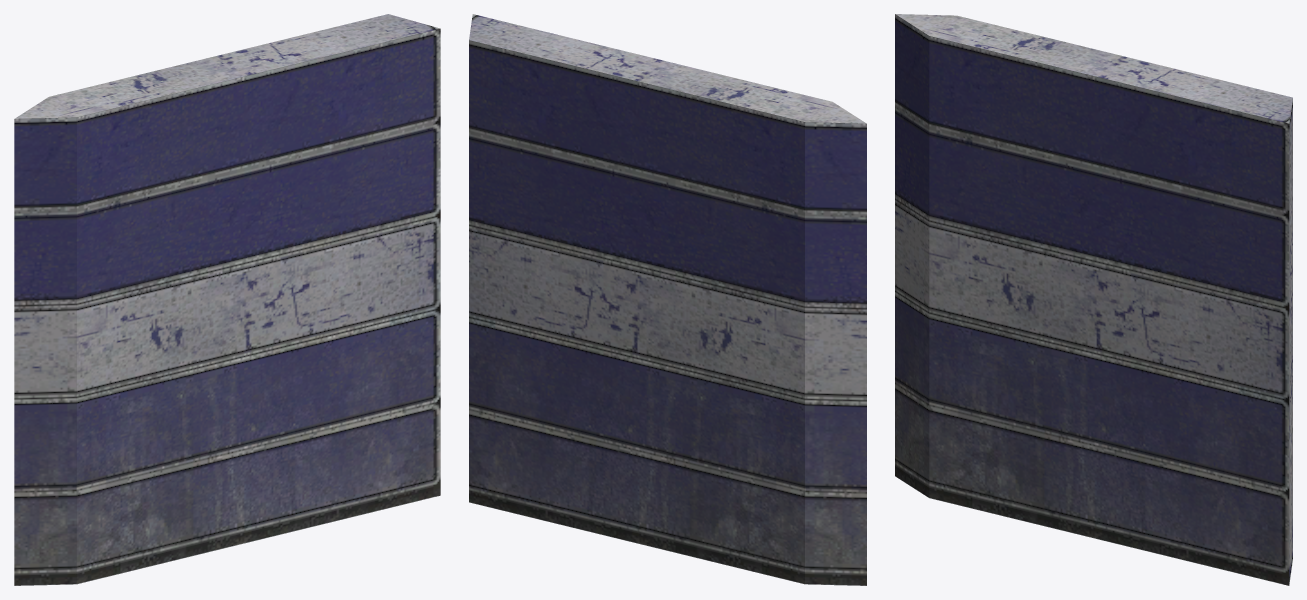
File: wall21.obj
The picture shows the model from 3 angles, left to right: view 1: azimuth 30°, elevation 25°; view 2: azimuth 150°, elevation 25°; view 3: azimuth 330°, elevation 25°; orthographic projection.
Visible parts, largest first — view 1: Cube.024; view 2: Cube.024; view 3: Cube.024.
Part boxes in pixels (x1,y1,x2,y2): Cube.024: (14, 14, 440, 585); Cube.024: (469, 14, 866, 585); Cube.024: (895, 14, 1292, 585).
Size of the model in its own units: 2.66 by 2.88 by 0.3125.
